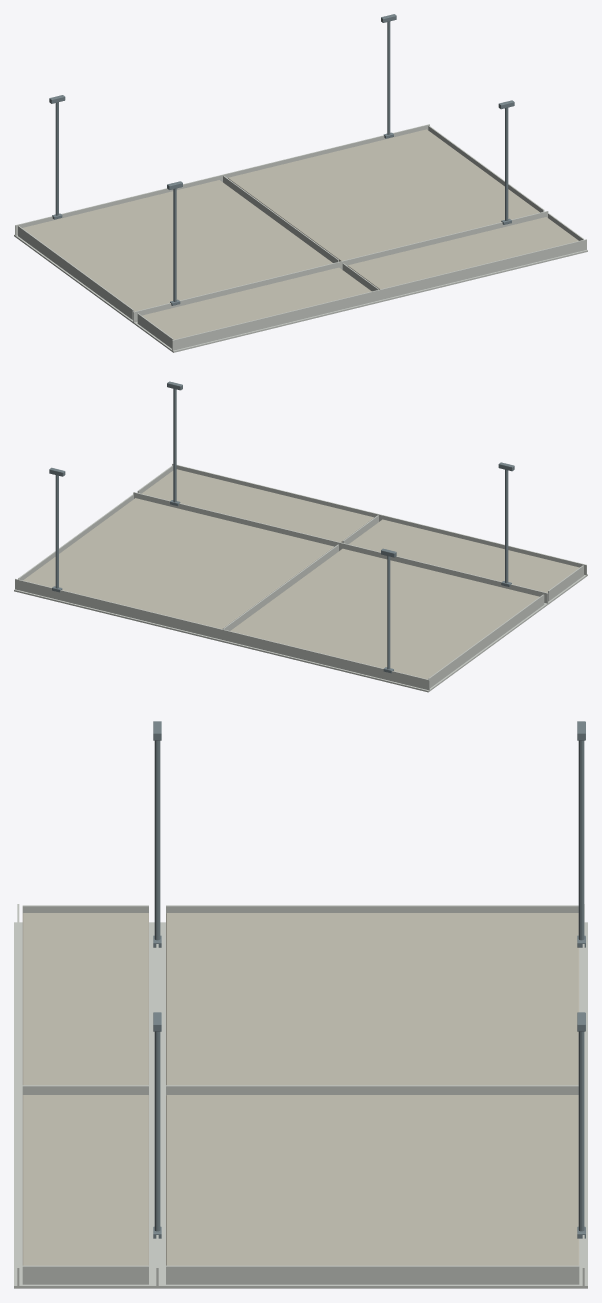
File: mall-ceiling-infill-800.glb
3 renders of one model, top to bottom at view 1: azimuth 30°, elevation 25°; view 2: azimuth 150°, elevation 25°; view 3: azimuth 270°, elevation 25°, orthographic. The views are drawn at different scales.
Parts seen in each view (by area): view 1: PANEL_4, PANEL_3, PANEL_2, PANEL_1, GRID_Main_1, GRID_Main_2, GRID_Main_3, GRID_Cross_1_2, GRID_Cross_2_2, GRID_Cross_3_2, GRID_Cross_1_1, HANGER_Rod_4 (+3 smaller); view 2: PANEL_4, PANEL_3, PANEL_2, PANEL_1, GRID_Main_3, GRID_Main_2, GRID_Main_1, GRID_Cross_1_2, GRID_Cross_2_2, GRID_Cross_3_2, GRID_Cross_1_1, HANGER_Rod_4 (+3 smaller); view 3: PANEL_3, PANEL_4, PANEL_1, PANEL_2, GRID_Cross_3_2, GRID_Main_2, GRID_Cross_2_2, GRID_Main_1, GRID_Cross_1_2, GRID_Cross_3_1, GRID_Main_3, HANGER_Rod_2 (+5 smaller).
Part boxes in pixels (x1,y1,x2,y2): PANEL_4: (228,129,539,261); PANEL_3: (22,180,332,311); PANEL_2: (347,217,578,289); PANEL_1: (142,267,371,339); GRID_Main_1: (171,239,587,352); GRID_Main_2: (131,211,548,324); GRID_Main_3: (14,124,429,237); GRID_Cross_1_2: (16,226,133,321); GRID_Cross_2_2: (223,176,338,262); GRID_Cross_3_2: (428,125,544,212); GRID_Cross_1_1: (136,313,173,350); HANGER_Rod_4: (387,21,390,134); PANEL_4: (23,498,333,629); PANEL_3: (230,548,539,679); PANEL_2: (141,469,373,542); PANEL_1: (349,519,579,592); GRID_Main_3: (14,578,430,692); GRID_Main_2: (133,492,550,606); GRID_Main_1: (172,463,587,576); GRID_Cross_1_2: (428,594,545,690); GRID_Cross_2_2: (223,544,338,630); GRID_Cross_3_2: (18,494,133,580); GRID_Cross_1_1: (548,565,585,602); HANGER_Rod_4: (55,475,58,588); PANEL_3: (166,913,579,1085); PANEL_4: (166,1095,579,1265); PANEL_1: (22,913,148,1085); PANEL_2: (22,1095,148,1265); GRID_Cross_3_2: (166,1265,579,1288); GRID_Main_2: (149,922,165,1288); GRID_Cross_2_2: (166,1085,578,1094); GRID_Main_1: (14,904,22,1288); GRID_Cross_1_2: (166,905,578,912); GRID_Cross_3_1: (22,1265,148,1288); GRID_Main_3: (579,904,587,1288); HANGER_Rod_2: (154,1031,160,1231).
Size of the model in its own units: 1.2 by 0.36 by 0.8.
